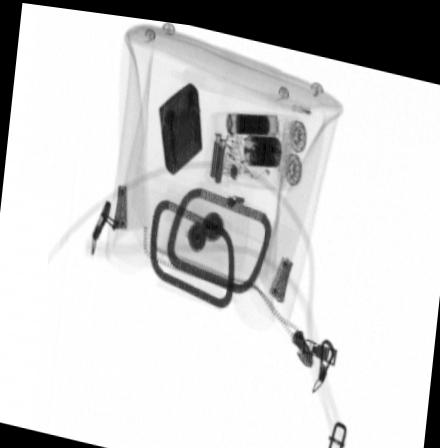Lighter: (158, 76, 202, 170)
